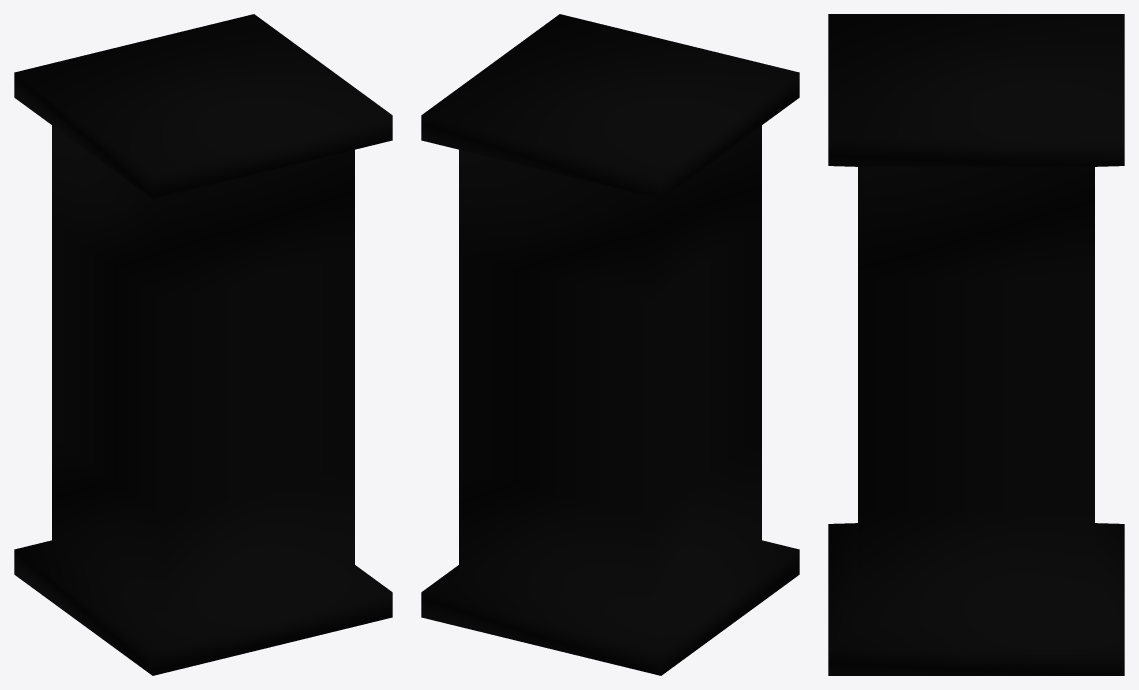
The model's file is Pillar.fbx.
3 renders of one model, left to right at view 1: azimuth 30°, elevation 25°; view 2: azimuth 150°, elevation 25°; view 3: azimuth 270°, elevation 25°, orthographic. The views are drawn at different scales.
Parts seen in each view (by area): view 1: Pillar; view 2: Pillar; view 3: Pillar.
Part boxes in pixels (x1,y1,x2,y2): Pillar: (14, 14, 392, 675); Pillar: (421, 14, 799, 675); Pillar: (828, 14, 1124, 675).
Bounding box in the file's own units: 200 × 400 × 200.
